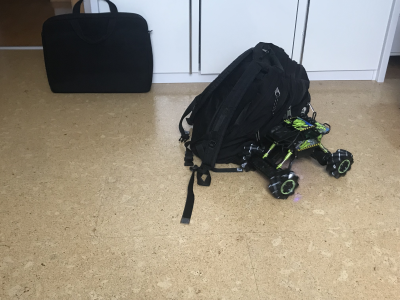remote control car: (242, 114, 357, 200)
